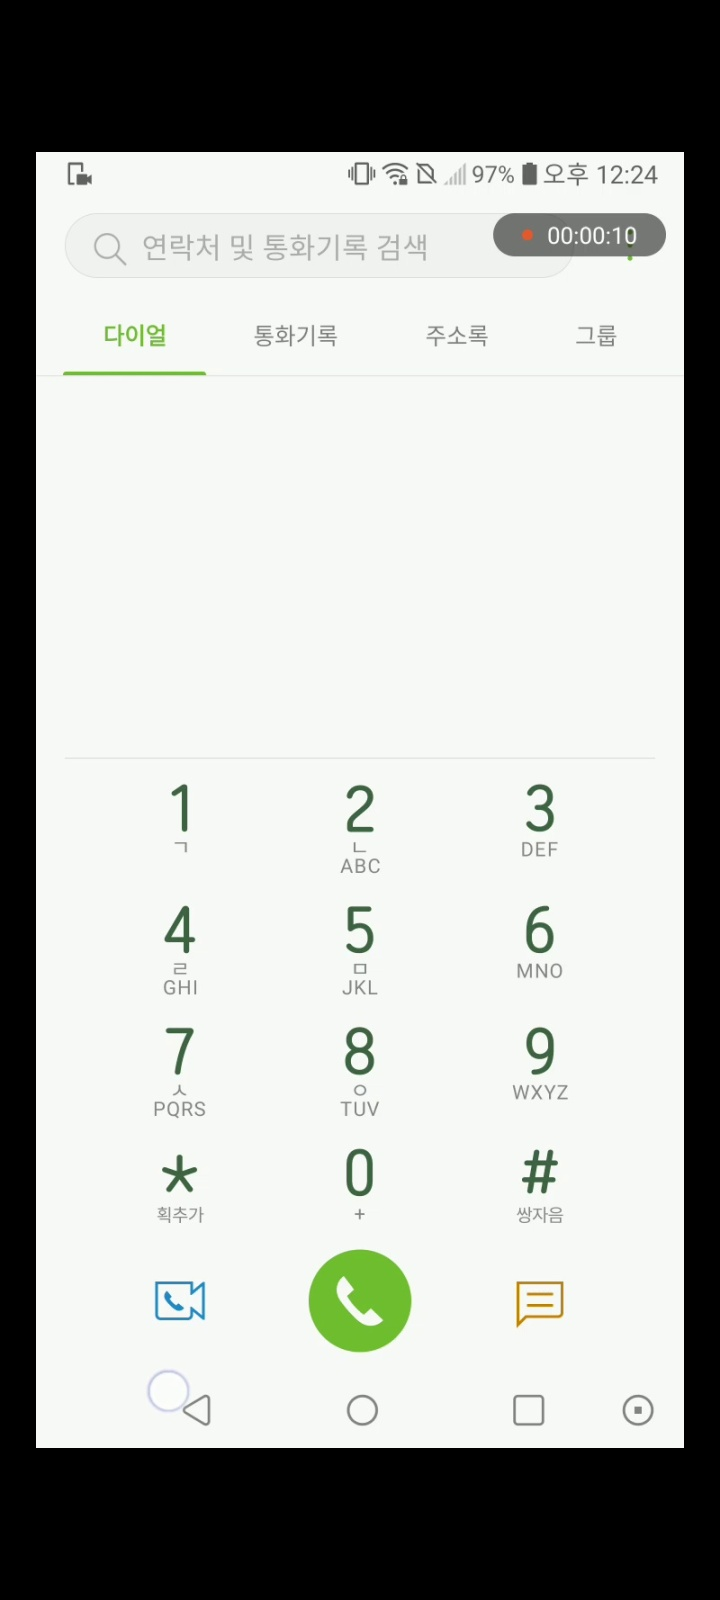Cursor: (146, 1369, 191, 1414)
